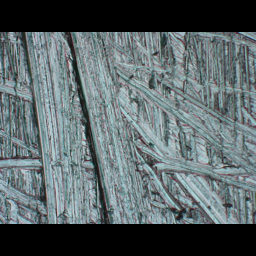d: (0, 32, 255, 223)
